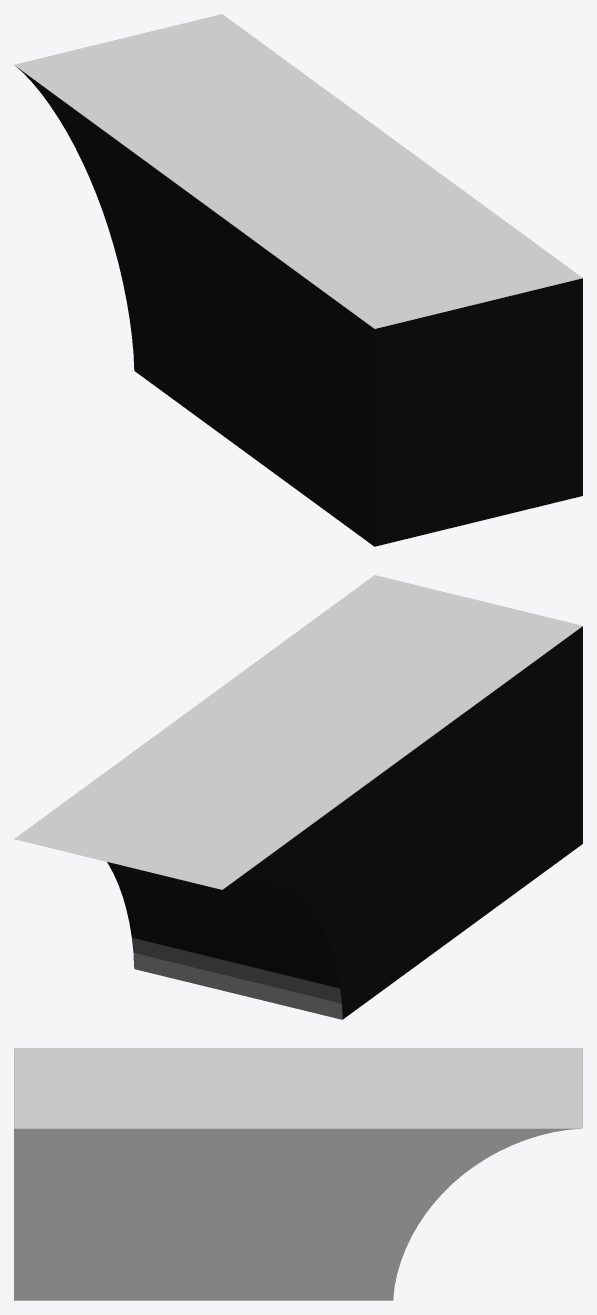
Rendered from corridor_4.glb.
3 views of the same model, one above another, from view 1: azimuth 30°, elevation 25°; view 2: azimuth 150°, elevation 25°; view 3: azimuth 270°, elevation 25° (orthographic). The views are drawn at different scales.
Visible parts, largest first — view 1: Cube.002; view 2: Cube.002; view 3: Cube.002.
Boxes of the visible parts, x1=… form: Cube.002: x1=14, y1=14, x2=582, y2=546; Cube.002: x1=14, y1=575, x2=582, y2=1019; Cube.002: x1=14, y1=1048, x2=582, y2=1300.
Size of the model in its own units: 2 by 2 by 6.
1 material, 1 textured.
